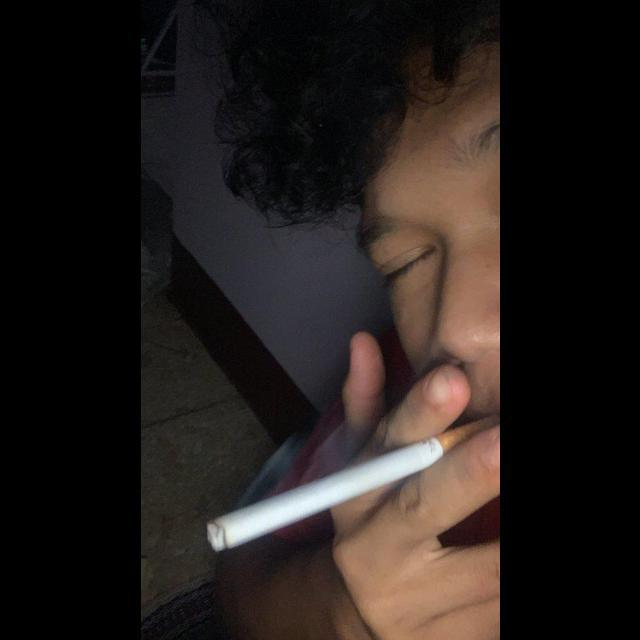rokok: (200, 402, 498, 560)
